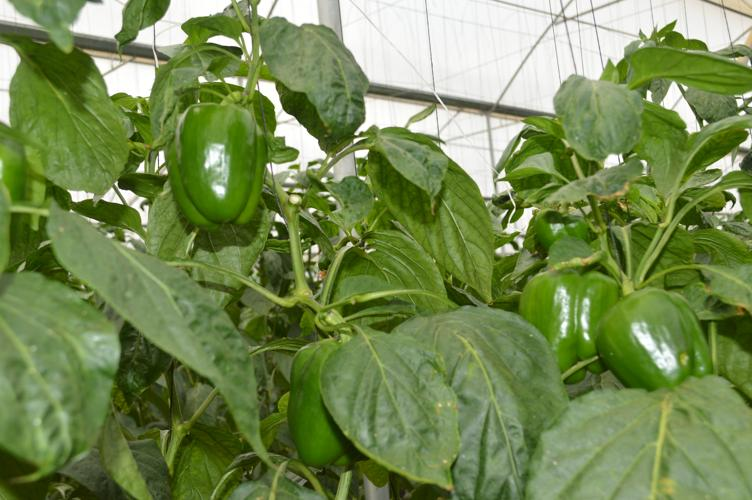BellPepper: (164, 102, 266, 230), (597, 285, 713, 391), (510, 270, 612, 382), (276, 338, 357, 461)
